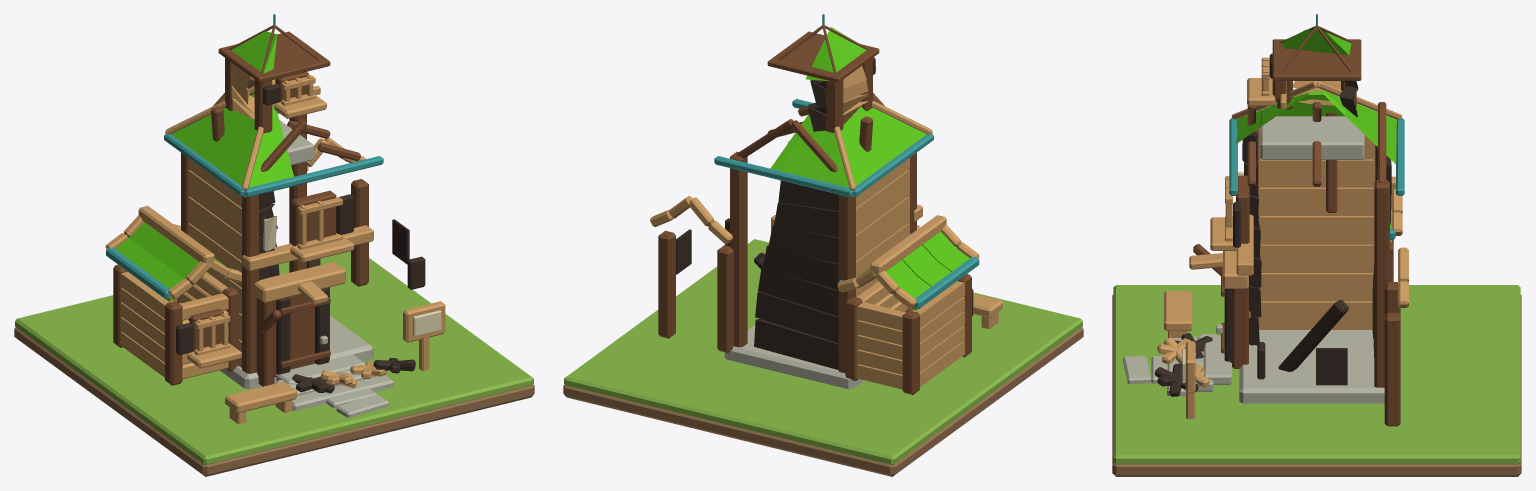
Rendered from town_hall_l05_damaged_LOD0.glb.
3 renders of one model, left to right at view 1: azimuth 30°, elevation 25°; view 2: azimuth 150°, elevation 25°; view 3: azimuth 270°, elevation 25°, orthographic. The views are drawn at different scales.
Visible parts, largest first — view 1: town_hall_l05_damaged_grass_tile, town_hall_l05_damaged_earth_tile, town_hall_l05_damaged_corner_reinforcement, town_hall_l05_damaged_hip_roof_shingle.011, town_hall_l05_damaged_central_spire_cornice, town_hall_l05_damaged_door_lintel, town_hall_l05_damaged_foundation, town_hall_l05_damaged_door_recess, town_hall_l05_damaged_wall_siding.018, town_hall_l05_damaged_wall_siding.022, town_hall_l05_damaged_corner_reinforcement.011, town_hall_l05_damaged_window_recess.001 (+43 smaller); view 2: town_hall_l05_damaged_grass_tile, town_hall_l05_damaged_earth_tile, town_hall_l05_damaged_corner_reinforcement.003, town_hall_l05_damaged_wall_siding.001, town_hall_l05_damaged_foundation, town_hall_l05_damaged_wall_siding.005, town_hall_l05_damaged_hip_roof_shingle.011, town_hall_l05_damaged_corner_reinforcement.001, town_hall_l05_damaged_central_spire_cornice, town_hall_l05_damaged_wall_siding.009, town_hall_l05_damaged_corner_reinforcement.011, town_hall_l05_damaged_wall_siding.013 (+35 smaller); view 3: town_hall_l05_damaged_grass_tile, town_hall_l05_damaged_foundation, town_hall_l05_damaged_earth_tile, town_hall_l05_damaged_surviving_tower_course, town_hall_l05_damaged_wall_siding.014, town_hall_l05_damaged_wall_siding.010, town_hall_l05_damaged_wall_siding.006, town_hall_l05_damaged_wall_siding.018, town_hall_l05_damaged_central_spire_cornice, town_hall_l05_damaged_wall_siding.022, town_hall_l05_damaged_corner_reinforcement.003, town_hall_l05_damaged_wall_siding.002 (+26 smaller).
Boxes of the visible parts, x1,y1,x2,y2 form: town_hall_l05_damaged_grass_tile: (15, 251, 533, 464); town_hall_l05_damaged_earth_tile: (14, 327, 534, 476); town_hall_l05_damaged_corner_reinforcement: (242, 194, 259, 373); town_hall_l05_damaged_hip_roof_shingle.011: (171, 119, 250, 196); town_hall_l05_damaged_central_spire_cornice: (218, 31, 330, 82); town_hall_l05_damaged_door_lintel: (254, 262, 345, 302); town_hall_l05_damaged_foundation: (220, 316, 373, 389); town_hall_l05_damaged_door_recess: (274, 287, 329, 377); town_hall_l05_damaged_wall_siding.018: (188, 196, 241, 261); town_hall_l05_damaged_wall_siding.022: (188, 170, 241, 234); town_hall_l05_damaged_corner_reinforcement.011: (351, 179, 368, 286); town_hall_l05_damaged_window_recess.001: (291, 190, 336, 246); town_hall_l05_damaged_grass_tile: (564, 239, 1082, 464); town_hall_l05_damaged_earth_tile: (563, 327, 1083, 476); town_hall_l05_damaged_corner_reinforcement.003: (730, 151, 747, 347); town_hall_l05_damaged_wall_siding.001: (754, 318, 838, 369); town_hall_l05_damaged_foundation: (724, 325, 863, 389); town_hall_l05_damaged_wall_siding.005: (755, 291, 838, 343); town_hall_l05_damaged_hip_roof_shingle.011: (847, 119, 926, 196); town_hall_l05_damaged_corner_reinforcement.001: (838, 194, 855, 372); town_hall_l05_damaged_central_spire_cornice: (767, 31, 879, 82); town_hall_l05_damaged_wall_siding.009: (758, 267, 838, 316); town_hall_l05_damaged_corner_reinforcement.011: (658, 230, 675, 338); town_hall_l05_damaged_wall_siding.013: (762, 245, 838, 289); town_hall_l05_damaged_grass_tile: (1113, 285, 1520, 464); town_hall_l05_damaged_foundation: (1239, 330, 1384, 403); town_hall_l05_damaged_earth_tile: (1112, 295, 1521, 476); town_hall_l05_damaged_surviving_tower_course: (1260, 116, 1364, 159); town_hall_l05_damaged_wall_siding.014: (1258, 216, 1374, 244); town_hall_l05_damaged_wall_siding.010: (1260, 244, 1374, 272); town_hall_l05_damaged_wall_siding.006: (1260, 273, 1373, 301); town_hall_l05_damaged_wall_siding.018: (1258, 187, 1374, 215); town_hall_l05_damaged_central_spire_cornice: (1272, 39, 1361, 80); town_hall_l05_damaged_wall_siding.022: (1258, 159, 1375, 187); town_hall_l05_damaged_corner_reinforcement.003: (1374, 180, 1389, 387); town_hall_l05_damaged_wall_siding.002: (1258, 301, 1372, 329).
Size of the model in its own units: 3.6 by 3.67 by 3.6.
